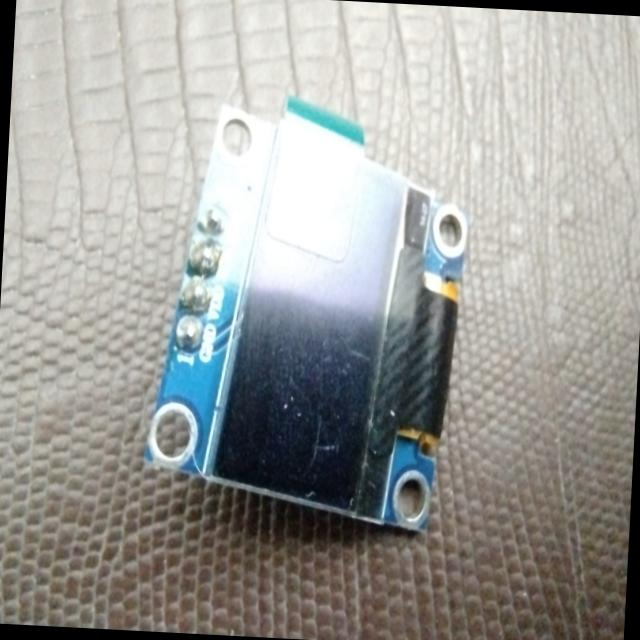oled: (142, 77, 478, 547)
